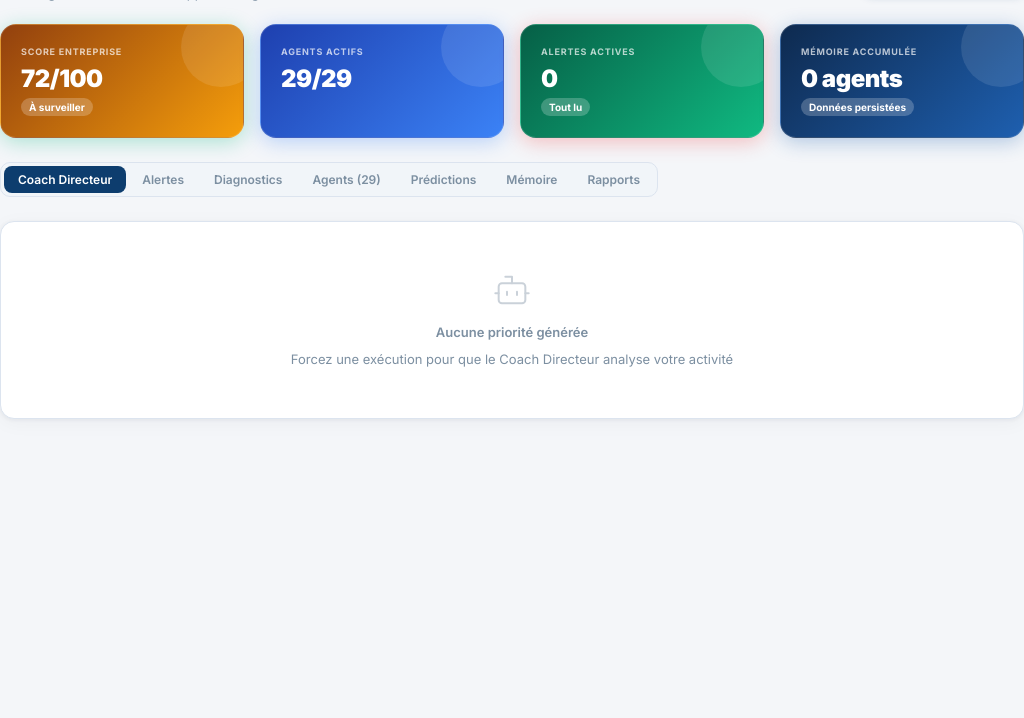
Test case: SOUS-ONGLET RAPPORTS — historique hebdomadaire › affiche la carte « Semaine du… » aux vraies valeurs
This screenshot has width=1024, height=718.
What coordinates should you click on to do the following:
click the button "Rapports"
I would click on:
 (614, 180)
Its box is [573, 166, 654, 193].
(page scrolled)
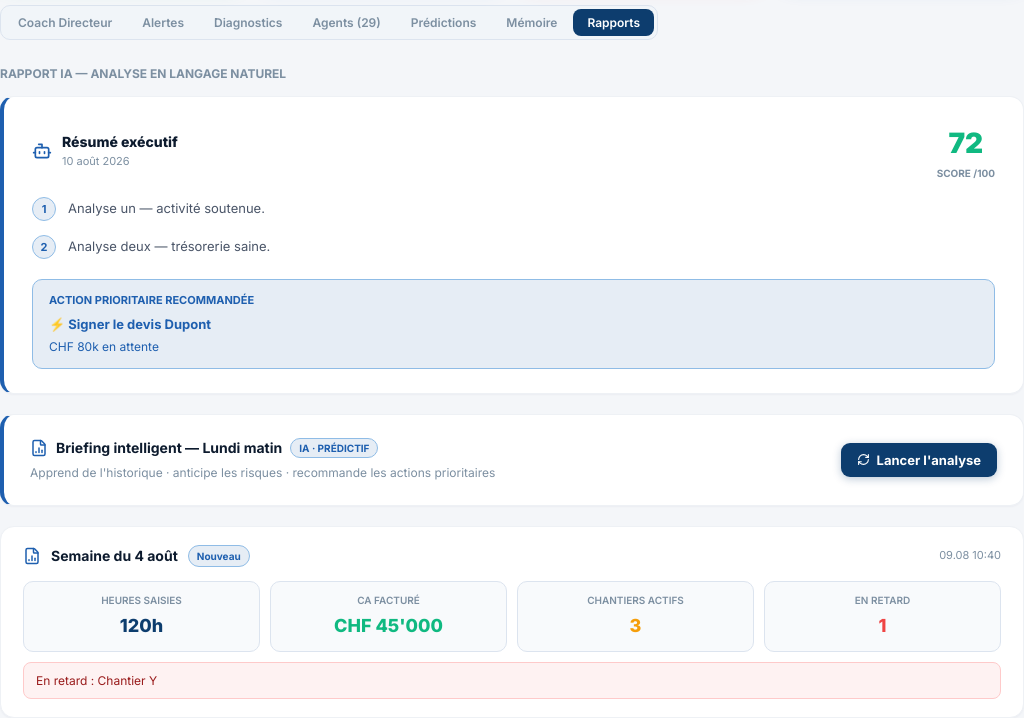
Check: the text "Semaine du 4 août" is shown, box [51, 544, 178, 567]
Check: the text "Nouveau" is shown, box [188, 545, 250, 567]
